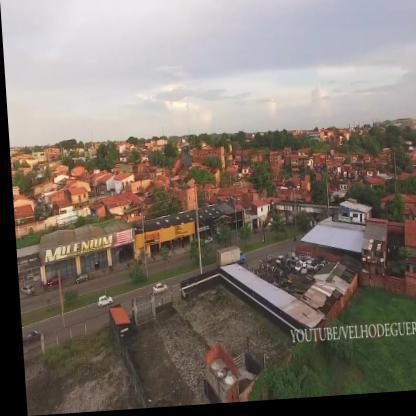lixo: (255, 261, 287, 294), (285, 257, 316, 282)
